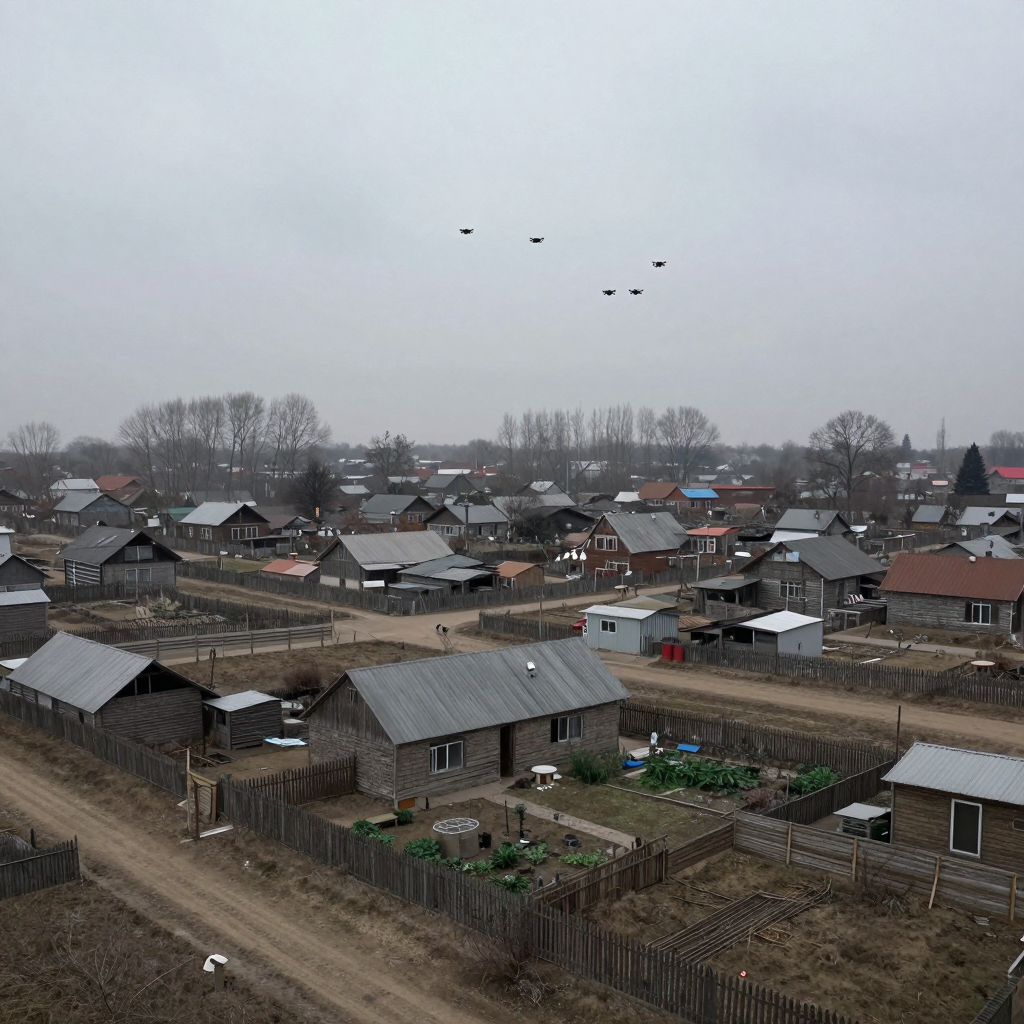drone: (629, 288, 644, 295), (652, 261, 667, 268), (459, 228, 474, 235), (602, 289, 616, 296), (530, 237, 544, 244)
